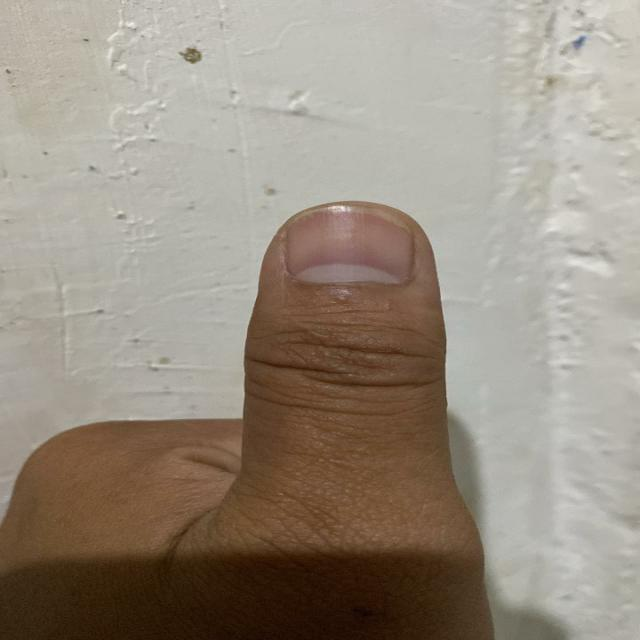sehat: (284, 205, 414, 284)
